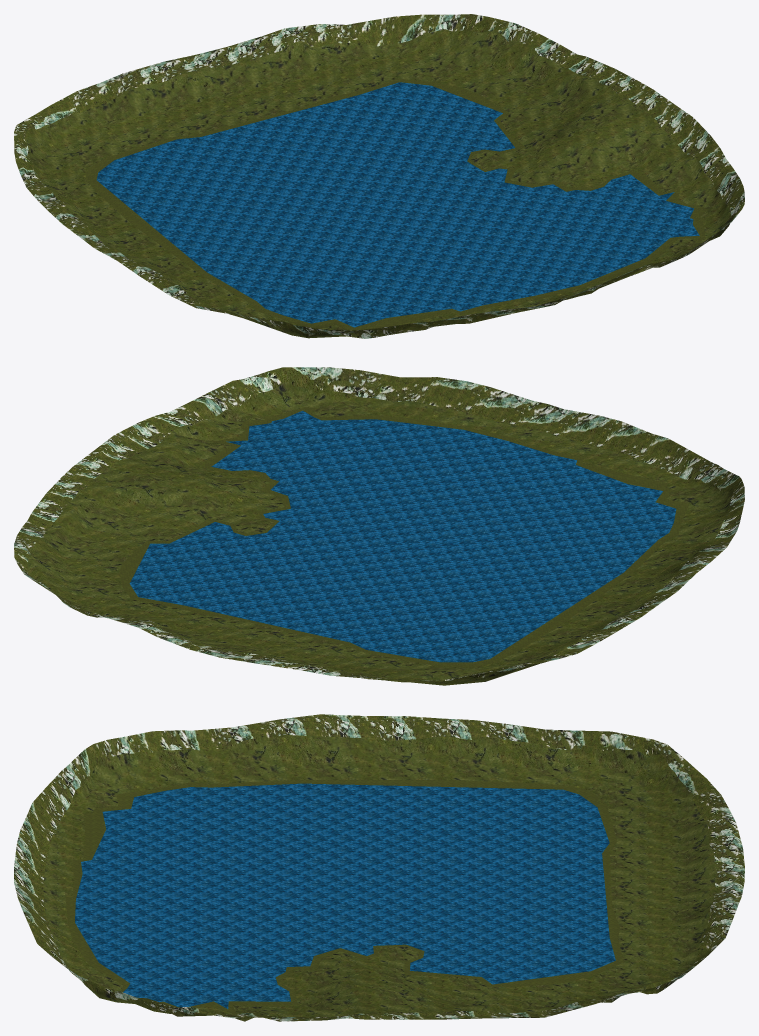
File: ENVO_Lake01.obj
The picture shows the model from 3 angles, top to bottom: view 1: azimuth 30°, elevation 25°; view 2: azimuth 150°, elevation 25°; view 3: azimuth 270°, elevation 25°; orthographic projection. The views are drawn at different scales.
Parts seen in each view (by area): view 1: Lake01; view 2: Lake01; view 3: Lake01.
Part boxes in pixels (x1=…): Lake01: x1=14, y1=14, x2=744, y2=338; Lake01: x1=14, y1=367, x2=744, y2=685; Lake01: x1=14, y1=714, x2=744, y2=1021.
Size of what is drawn, in the model's own units: 6080 by 274 by 6181.
4 materials, 4 textured.
